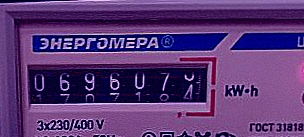0: (130, 69, 145, 91), (30, 72, 44, 93)
4: (180, 82, 193, 103)
6: (55, 71, 69, 92), (105, 71, 119, 91)
7: (155, 71, 170, 92)
9: (80, 71, 93, 92)
screen: (13, 54, 219, 114)
